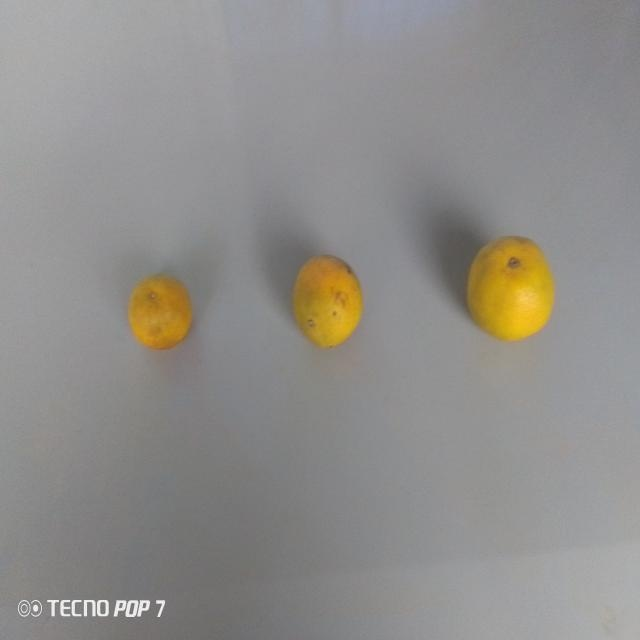agrume: (463, 230, 560, 345), (288, 245, 366, 355), (126, 264, 194, 353)
